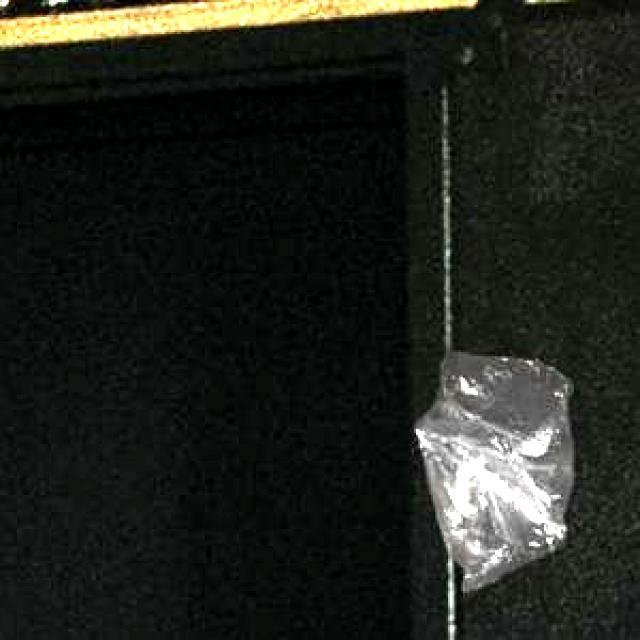Plastic_Bag: (412, 349, 570, 588)
